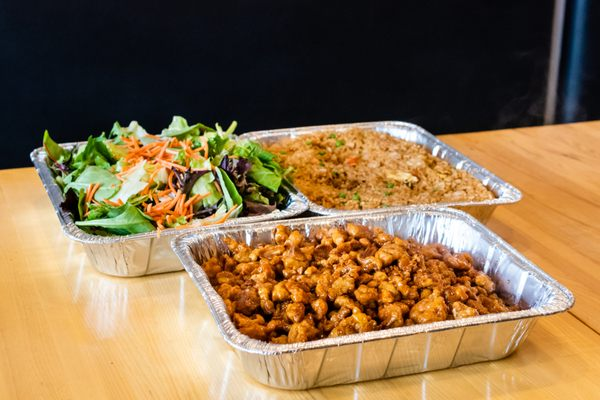sushi: (169, 205, 574, 389), (27, 117, 311, 278)
